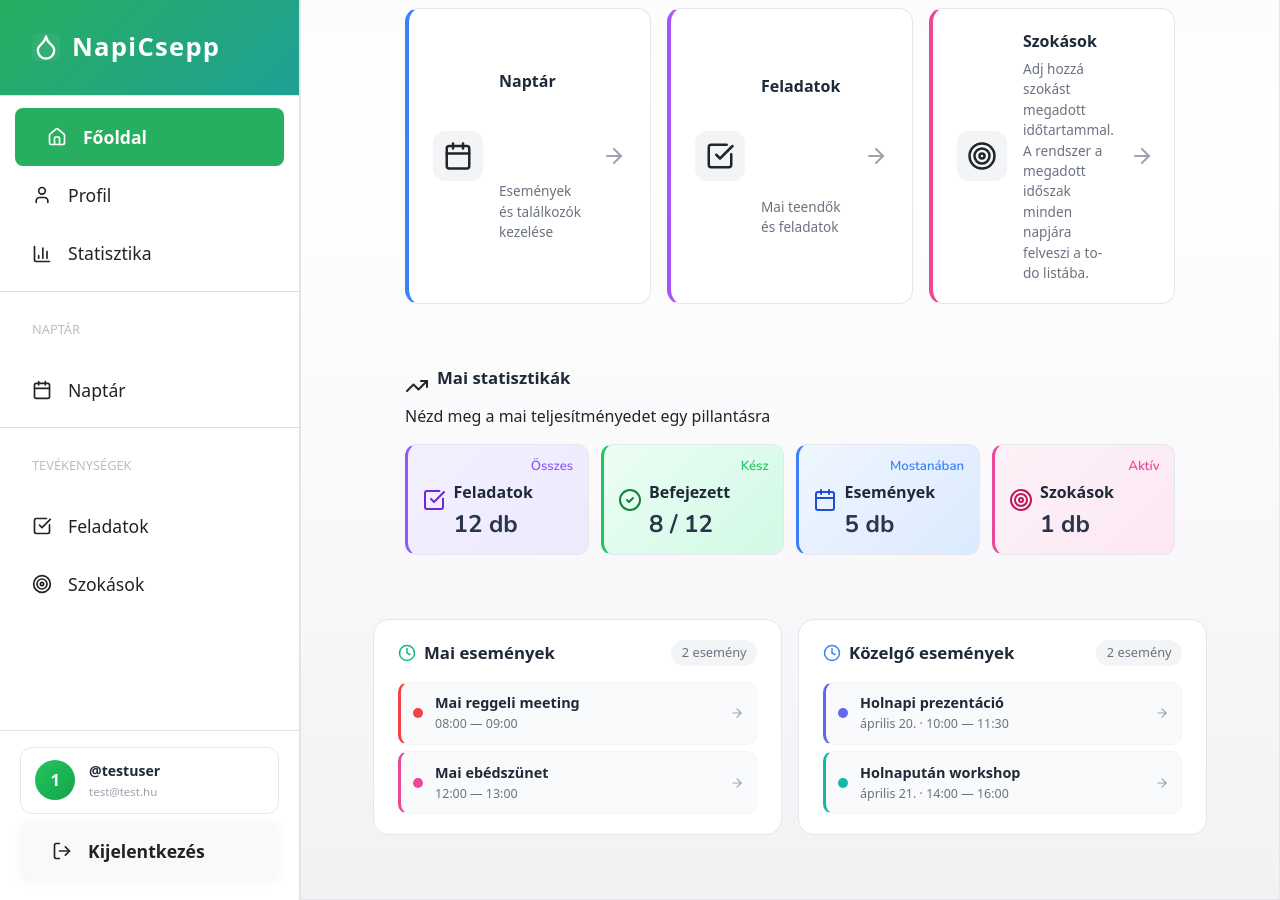
Homepage — Mai események lista › 8 - Mini popup Bezár gomb bezárja a popupot
(page scrolled)
Click the element with class "upcoming-event-item" that starts with "Mai reggeli meeting" at (578, 714), box left=398, top=682, right=757, bottom=745
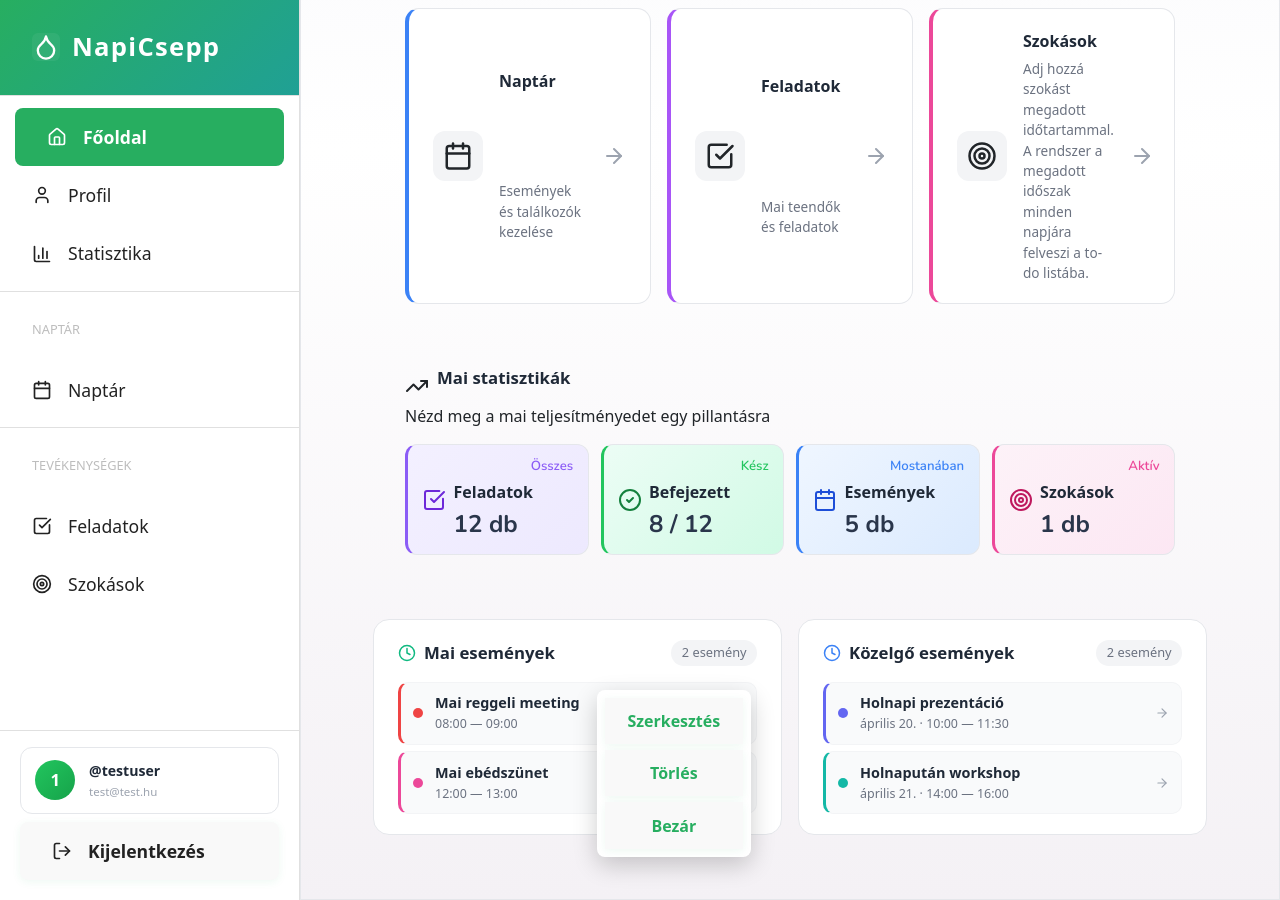
Expected: the element with class "mini-popup" is shown, left=597, top=690, right=751, bottom=857
Click the button "Bezár" at (674, 825), box left=605, top=802, right=743, bottom=848
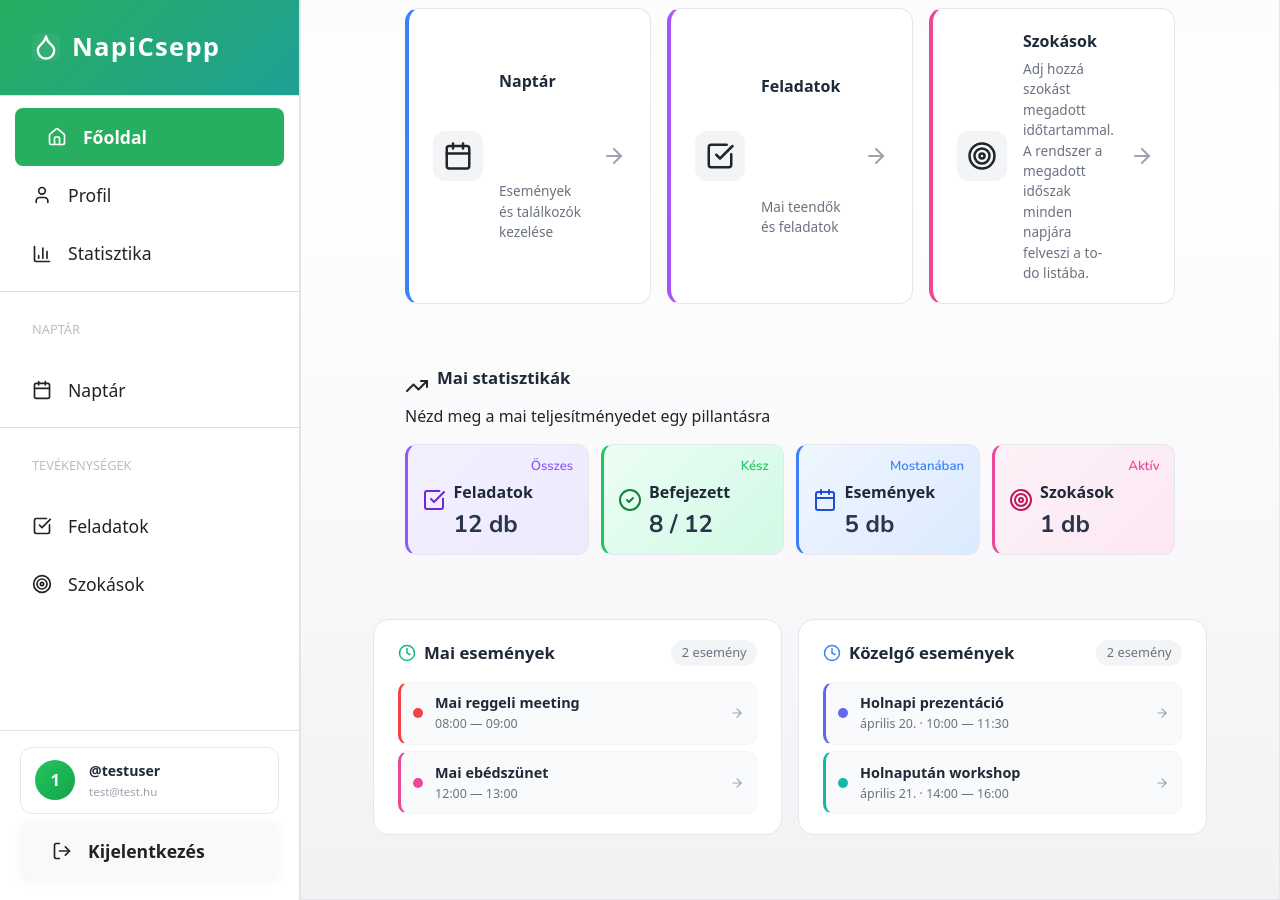
Expected: the element with class "mini-popup" is gone
